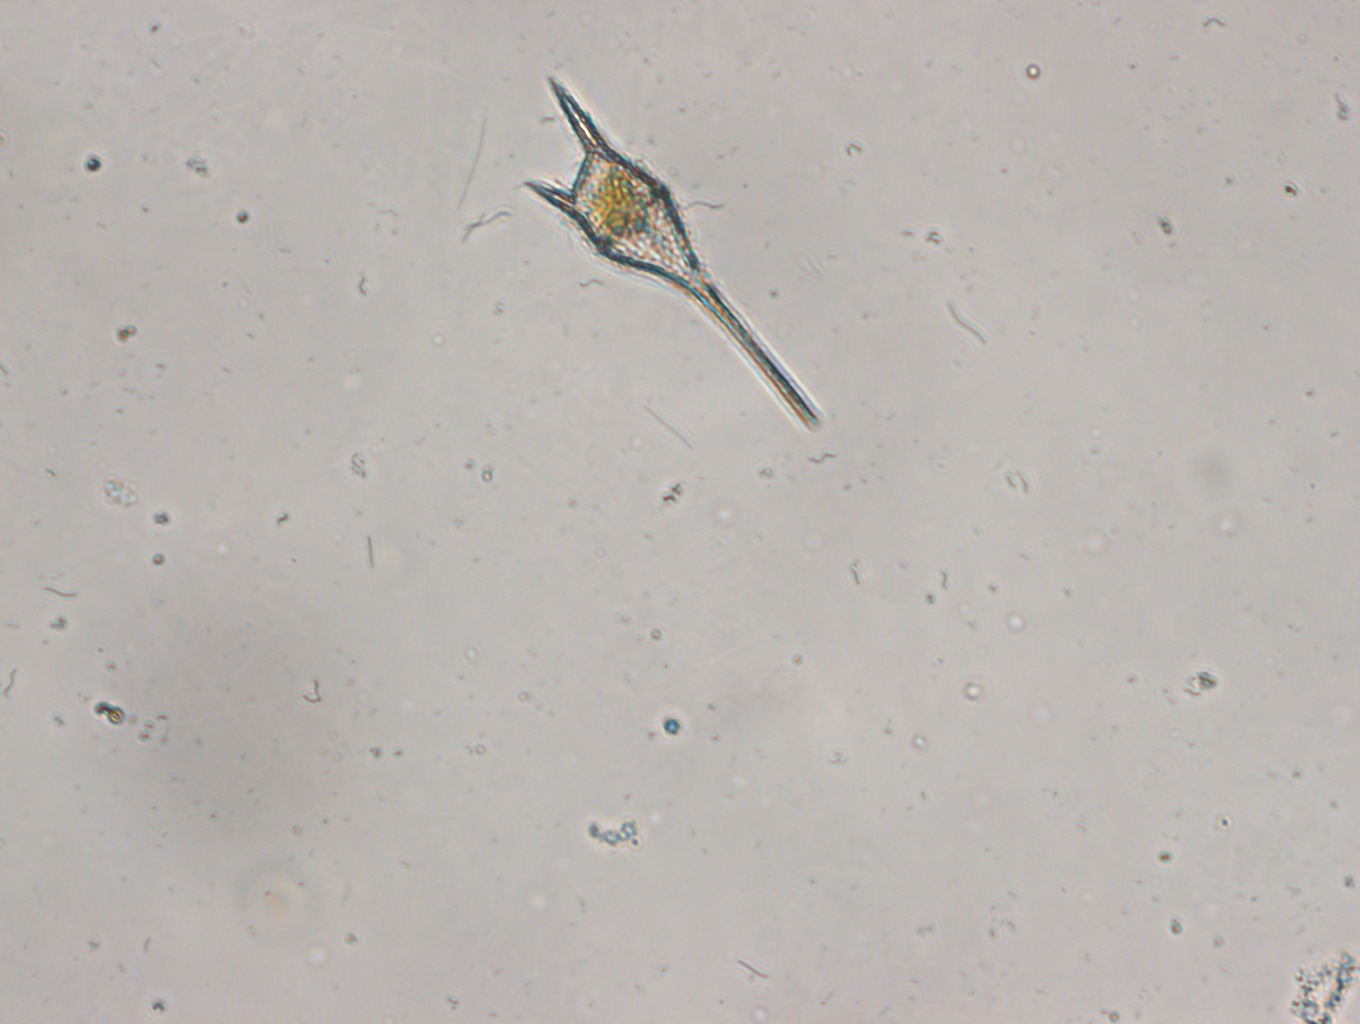ceratium furca: (526, 70, 828, 439)
